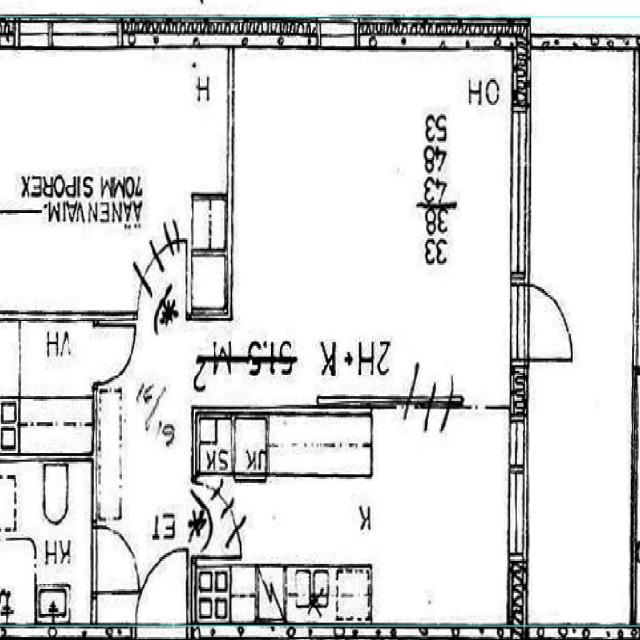door: (135, 541, 186, 640), (510, 284, 576, 358), (92, 526, 139, 592), (92, 324, 134, 382)
